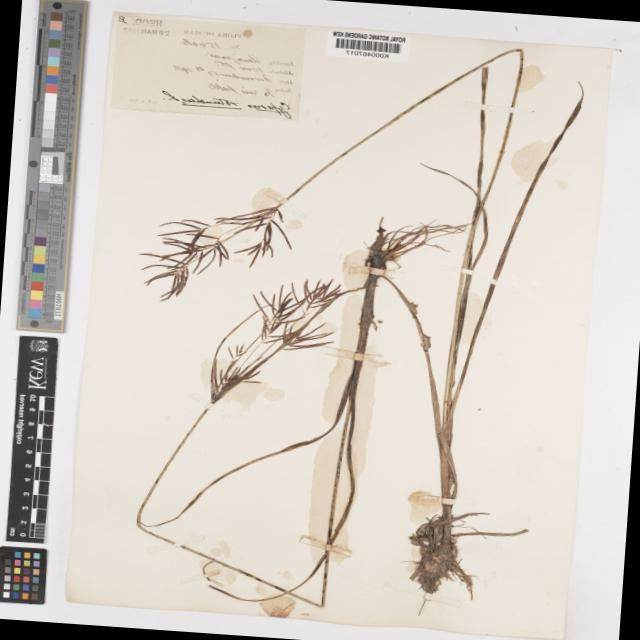cyperus: (190, 266, 367, 412), (127, 184, 291, 310)
